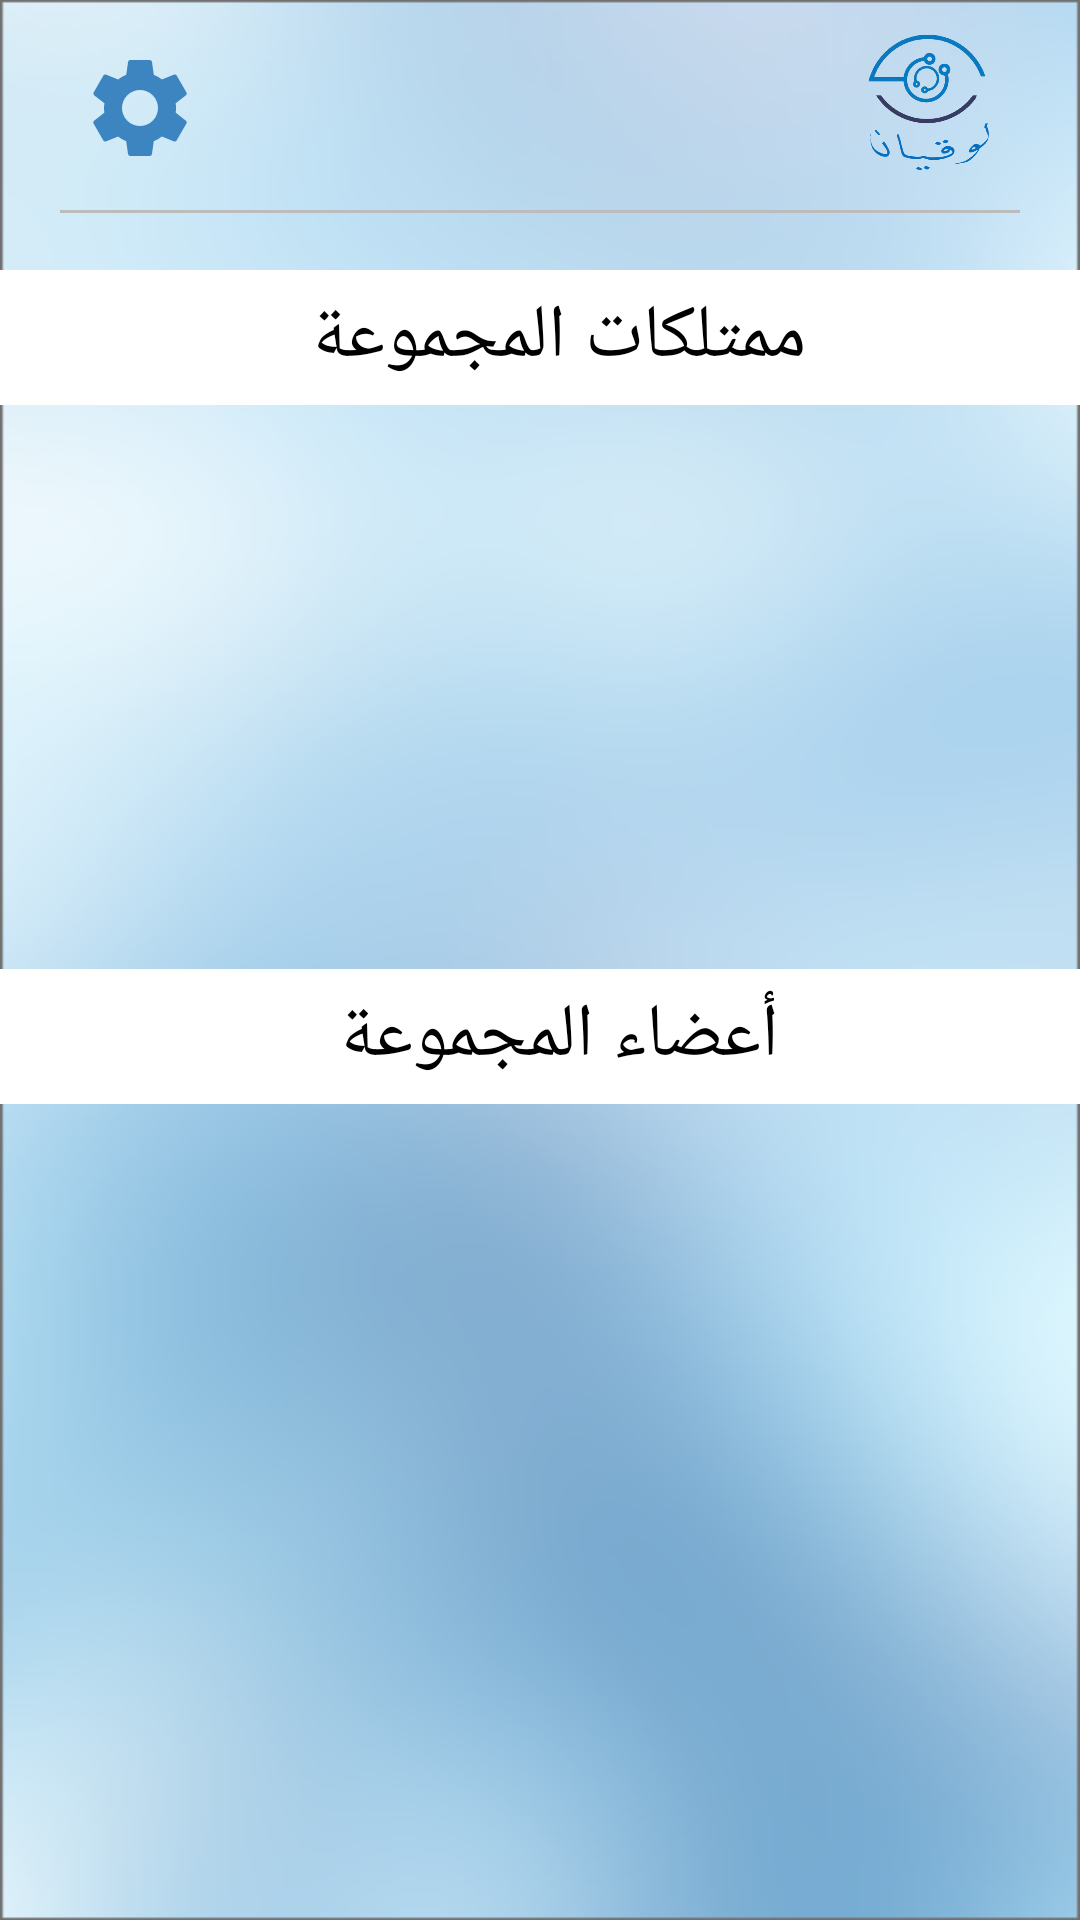

Screen size 1080×1920. Icon name, then its center in pixels as point (x, y):
setting: point (140, 108)
